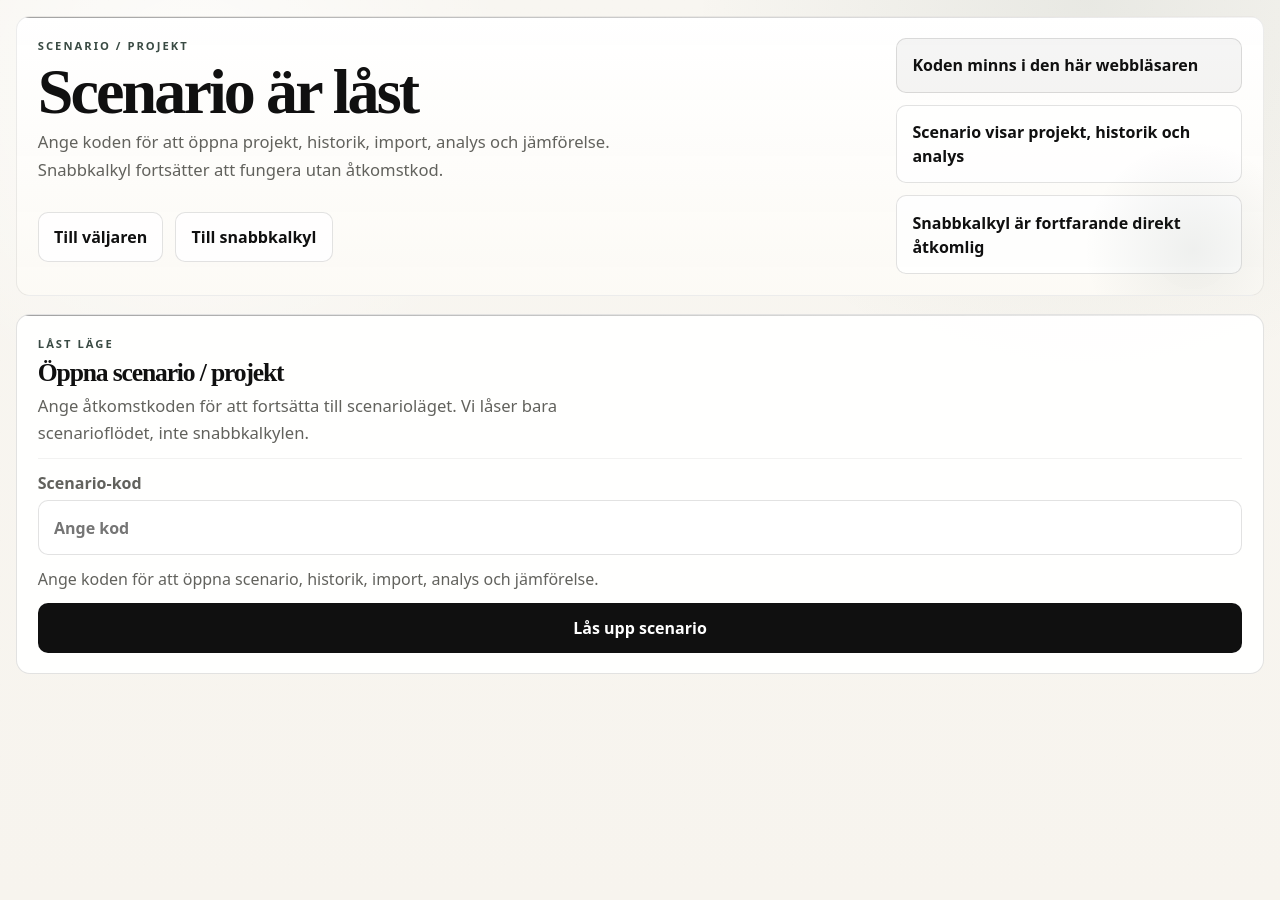
Test case: App › unlocks the scenario route with the Stockholm passcode
This screenshot has width=1280, height=900.
In the password field labelled "Scenario-kod": (640, 528) [38,500,1242,555], type "Stockholm"
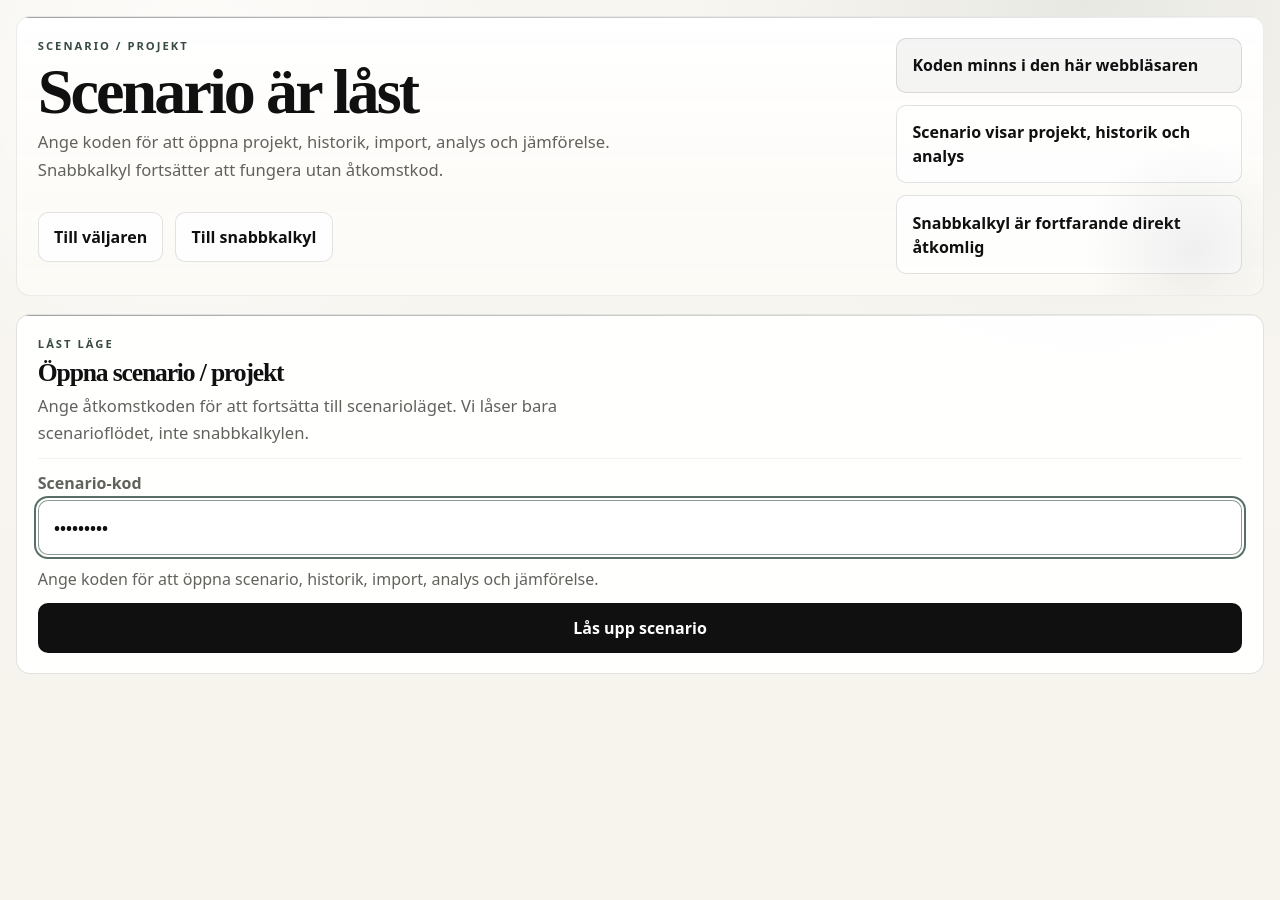
Click the button "Lås upp scenario": (640, 628) [38,603,1242,653]
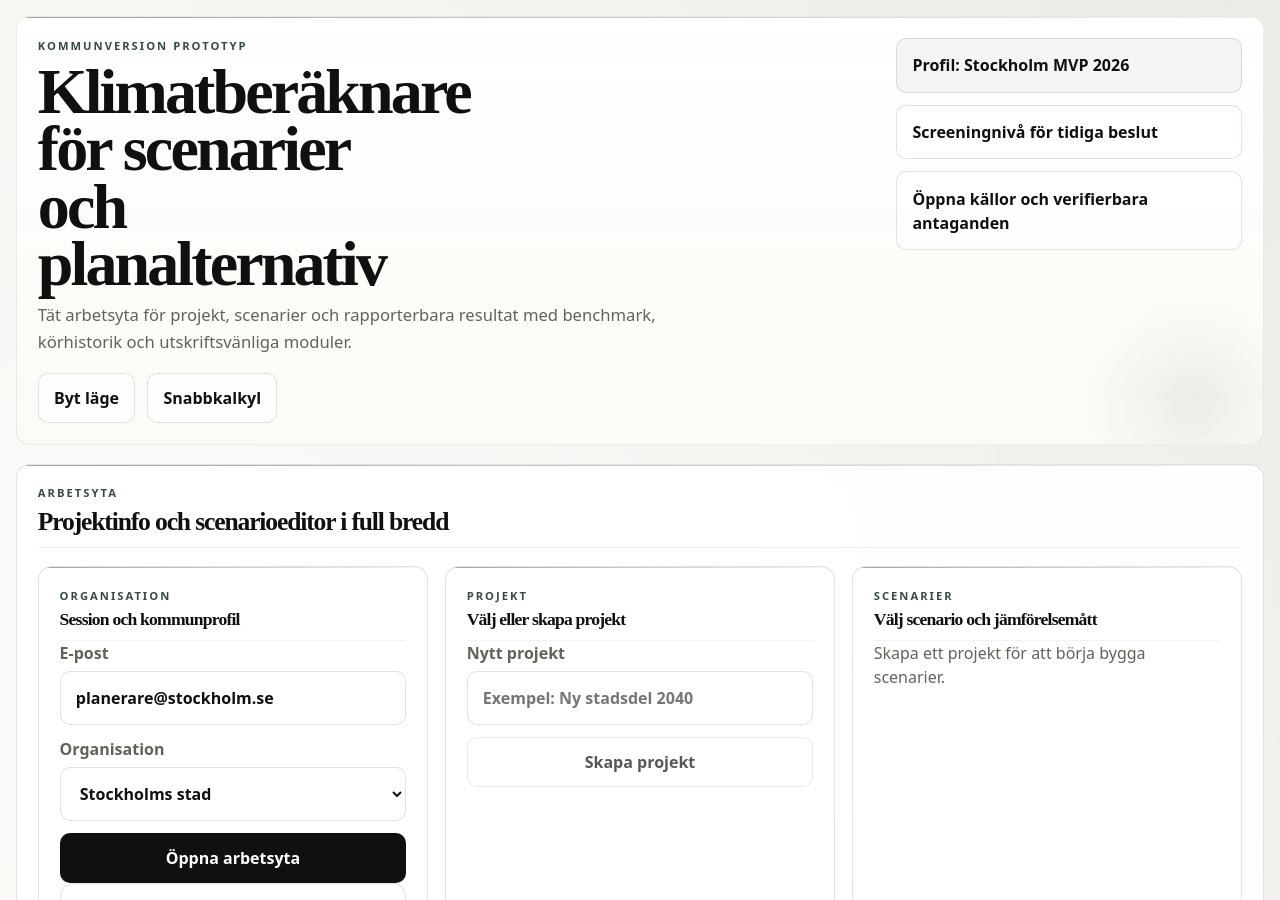
Now the button "Öppna arbetsyta" is shown, box [60,833,406,883]
Now the heading "Scenario är låst" is gone
